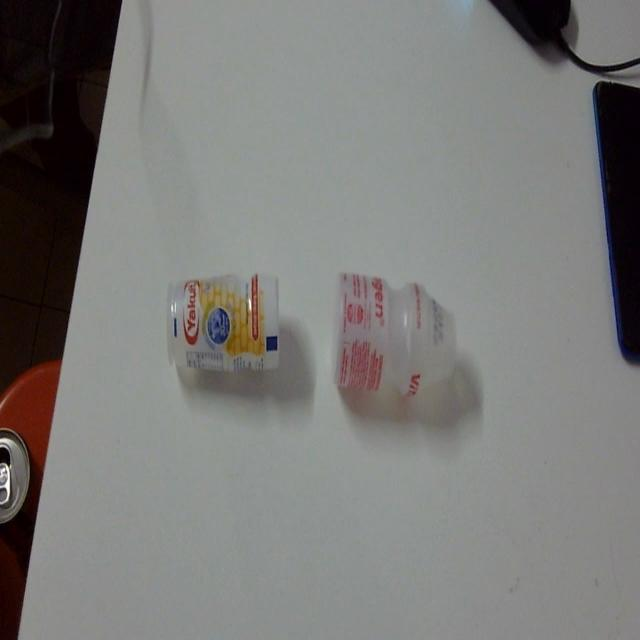plastic_laydown_0rotation: (323, 249, 462, 412), (160, 262, 292, 386)
